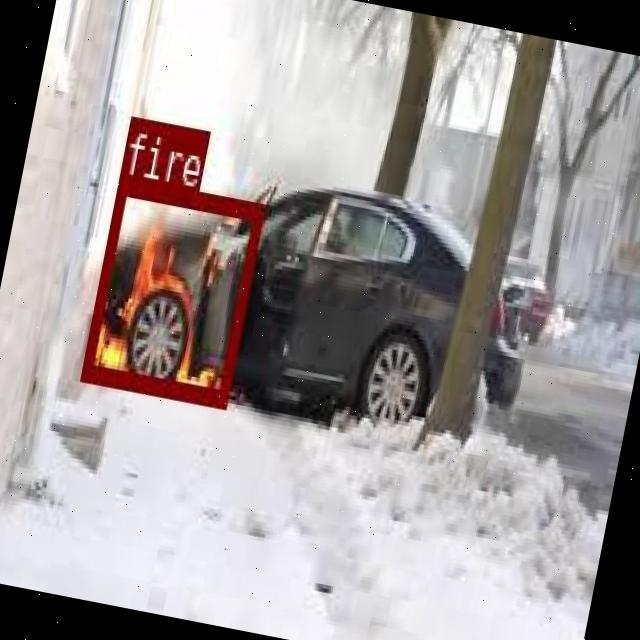fire: (80, 172, 264, 406)
